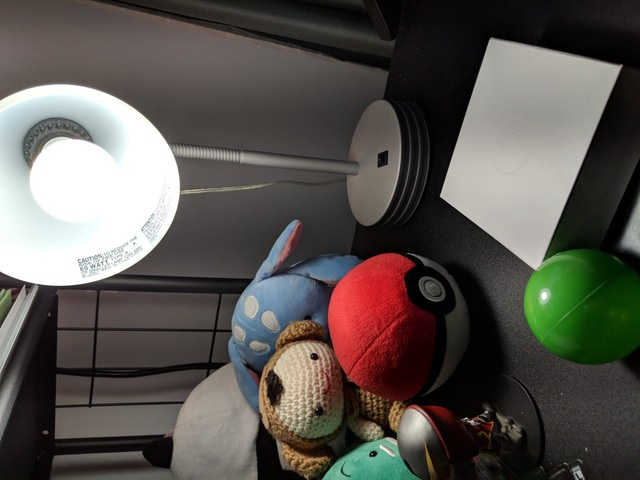Ball: (526, 243, 640, 367)
